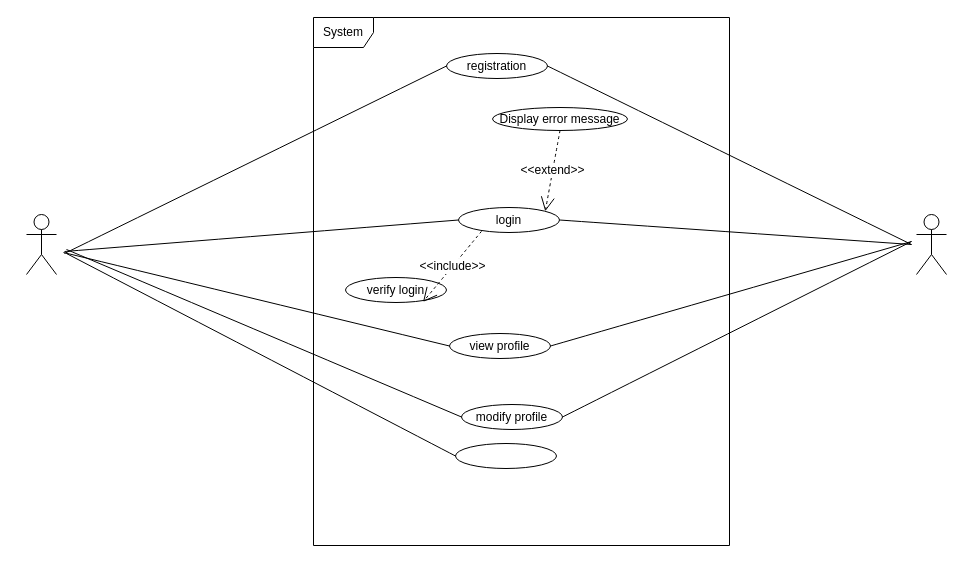
Some shapes in this 973 by 563 pixel diagram are drawn without their labels. The shapes that lost their labels are listed below. From the top down, each one's box as (x1, y1, x2, y2) in pixels, then its label:
(26, 214, 56, 274): Applicant
(916, 214, 946, 274): Recruiter
(454, 442, 556, 468): logout
